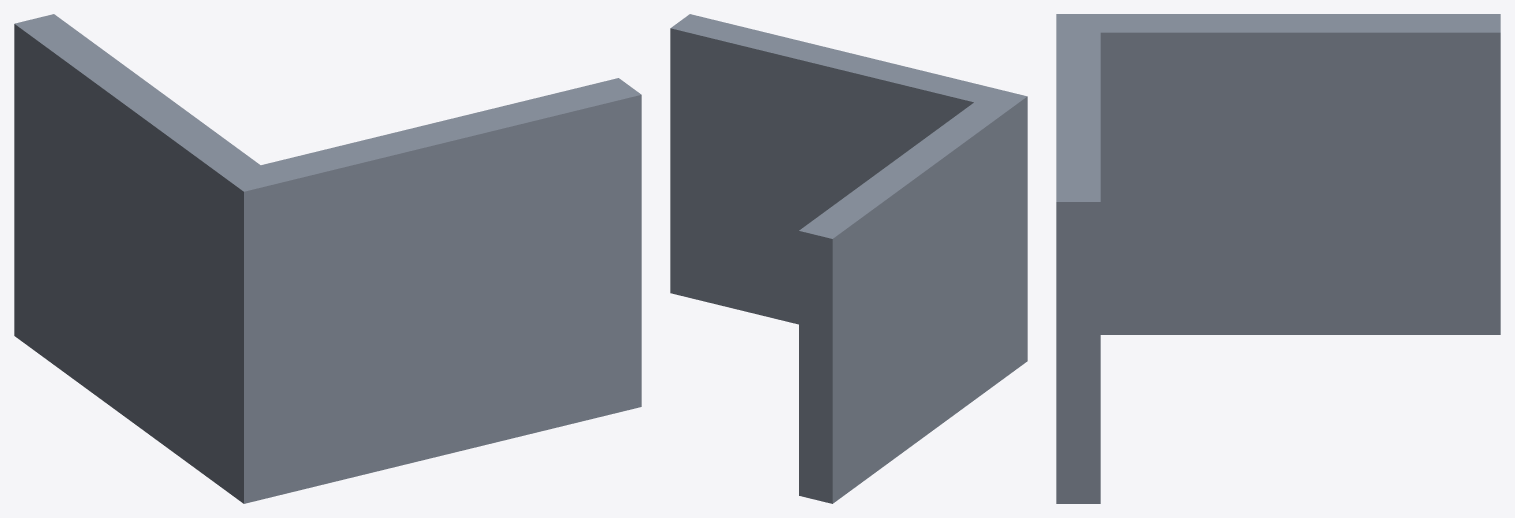
File: step-1.glb
3 views of the same model, side by side, from view 1: azimuth 30°, elevation 25°; view 2: azimuth 150°, elevation 25°; view 3: azimuth 270°, elevation 25° (orthographic). The views are drawn at different scales.
Visible parts, largest first — view 1: face_1320a4ab94ab063305ee, face_0822f0ed583401303e65, face_9a606aa5243323bfbf13; view 2: face_0822f0ed583401303e65, face_16356e33078b720dd2ea, face_9a606aa5243323bfbf13, face_e79a2301288199424551; view 3: face_c0f7aabe620794693809, face_9a606aa5243323bfbf13, face_88a4432b375be22d6a92.
Boxes of the visible parts, x1=… form: face_1320a4ab94ab063305ee: x1=244, y1=95, x2=641, y2=503; face_0822f0ed583401303e65: x1=14, y1=24, x2=243, y2=503; face_9a606aa5243323bfbf13: x1=14, y1=14, x2=641, y2=191; face_0822f0ed583401303e65: x1=832, y1=96, x2=1027, y2=503; face_16356e33078b720dd2ea: x1=670, y1=28, x2=973, y2=324; face_9a606aa5243323bfbf13: x1=671, y1=14, x2=1026, y2=238; face_e79a2301288199424551: x1=799, y1=231, x2=832, y2=503; face_c0f7aabe620794693809: x1=1100, y1=32, x2=1500, y2=334; face_9a606aa5243323bfbf13: x1=1056, y1=14, x2=1500, y2=201; face_88a4432b375be22d6a92: x1=1056, y1=202, x2=1100, y2=503.
Size of the model in its own units: 0.04 by 0.03 by 0.04.
